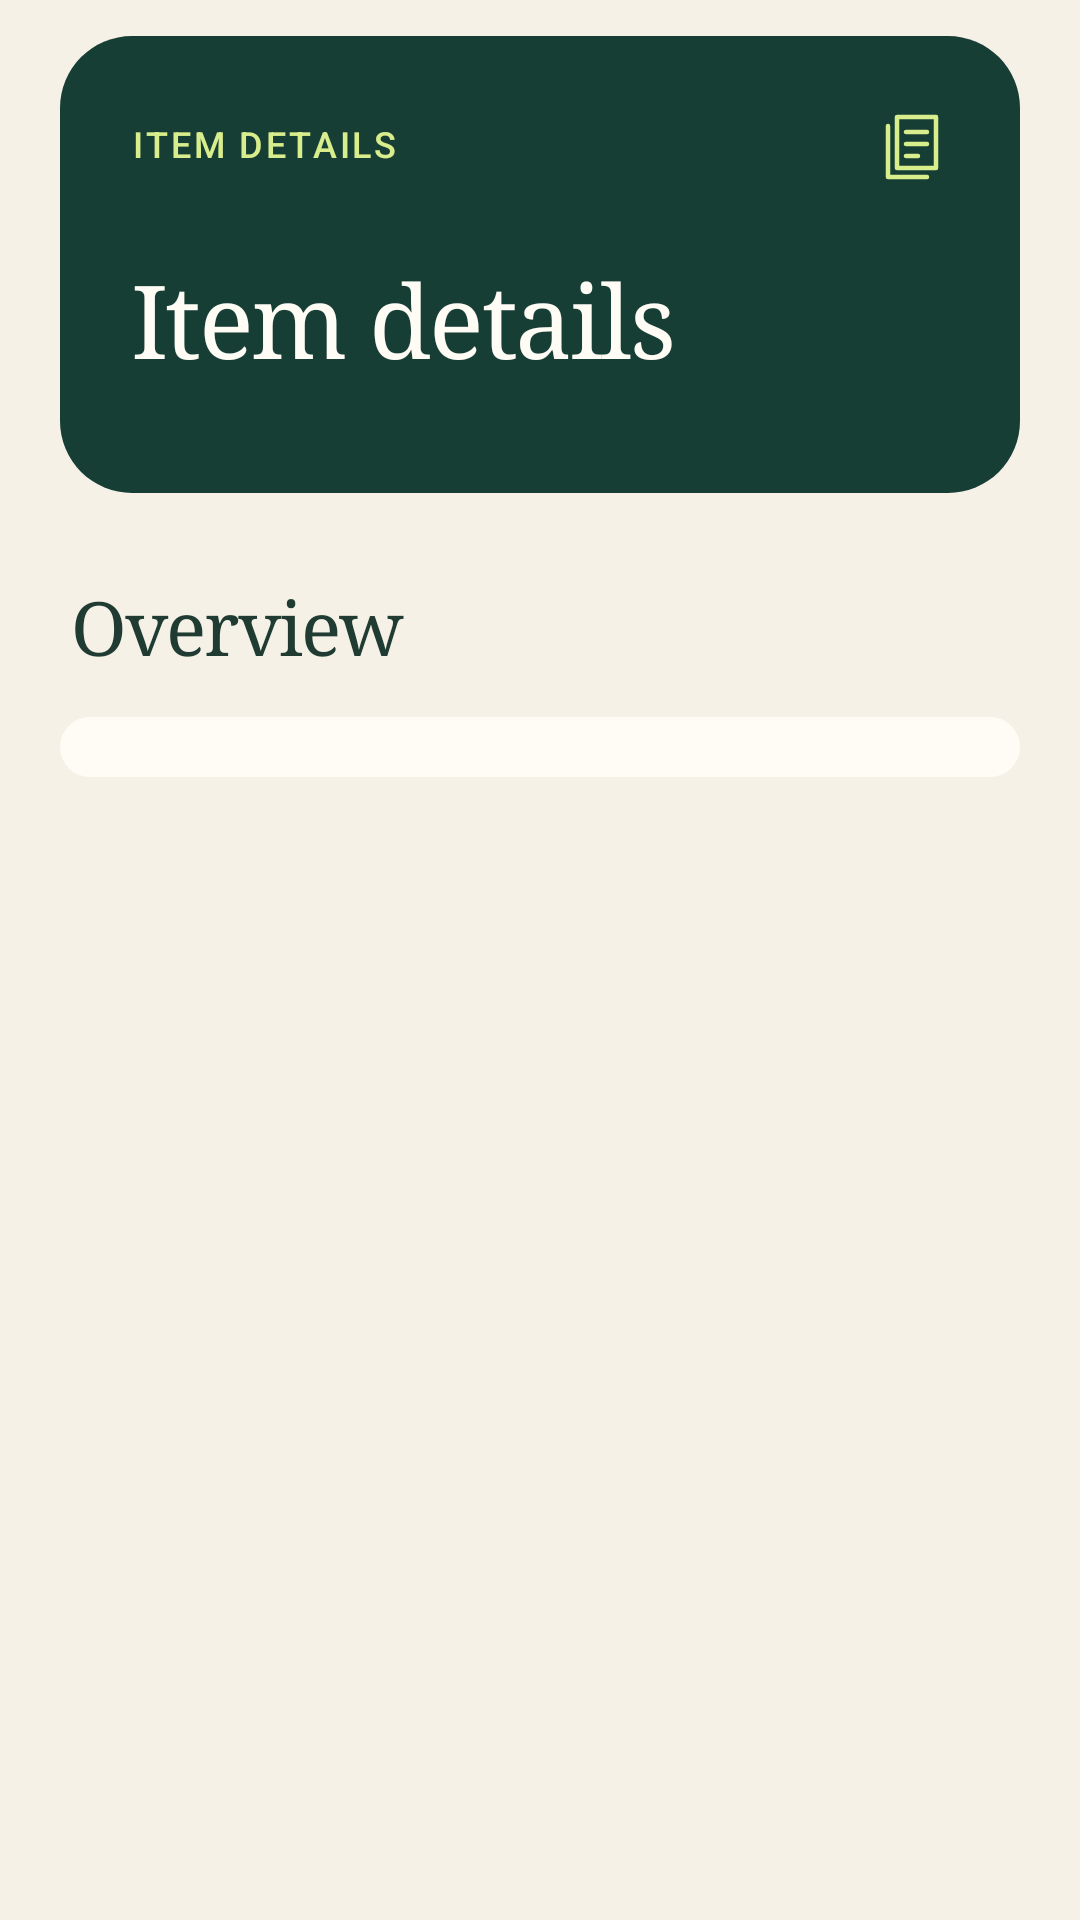

Screen size 1080x1920. Icon name, then its box in pixels as Rect(x1, y1, x2, y2):
collection: Rect(885, 114, 939, 180)
